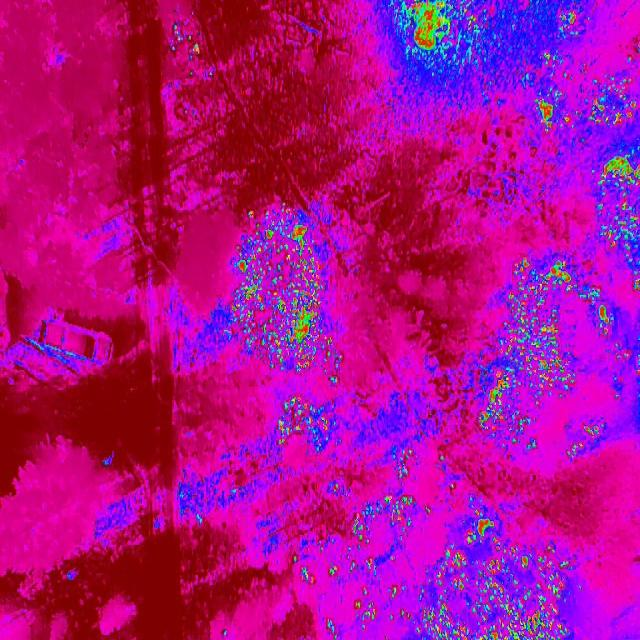fire: (224, 204, 353, 391), (416, 511, 578, 640), (486, 251, 584, 441), (388, 0, 488, 76), (596, 149, 640, 246), (275, 397, 334, 458), (532, 51, 577, 130), (351, 497, 417, 547), (589, 66, 640, 126), (562, 418, 608, 458), (592, 282, 616, 342), (560, 5, 594, 36), (624, 246, 640, 294)
